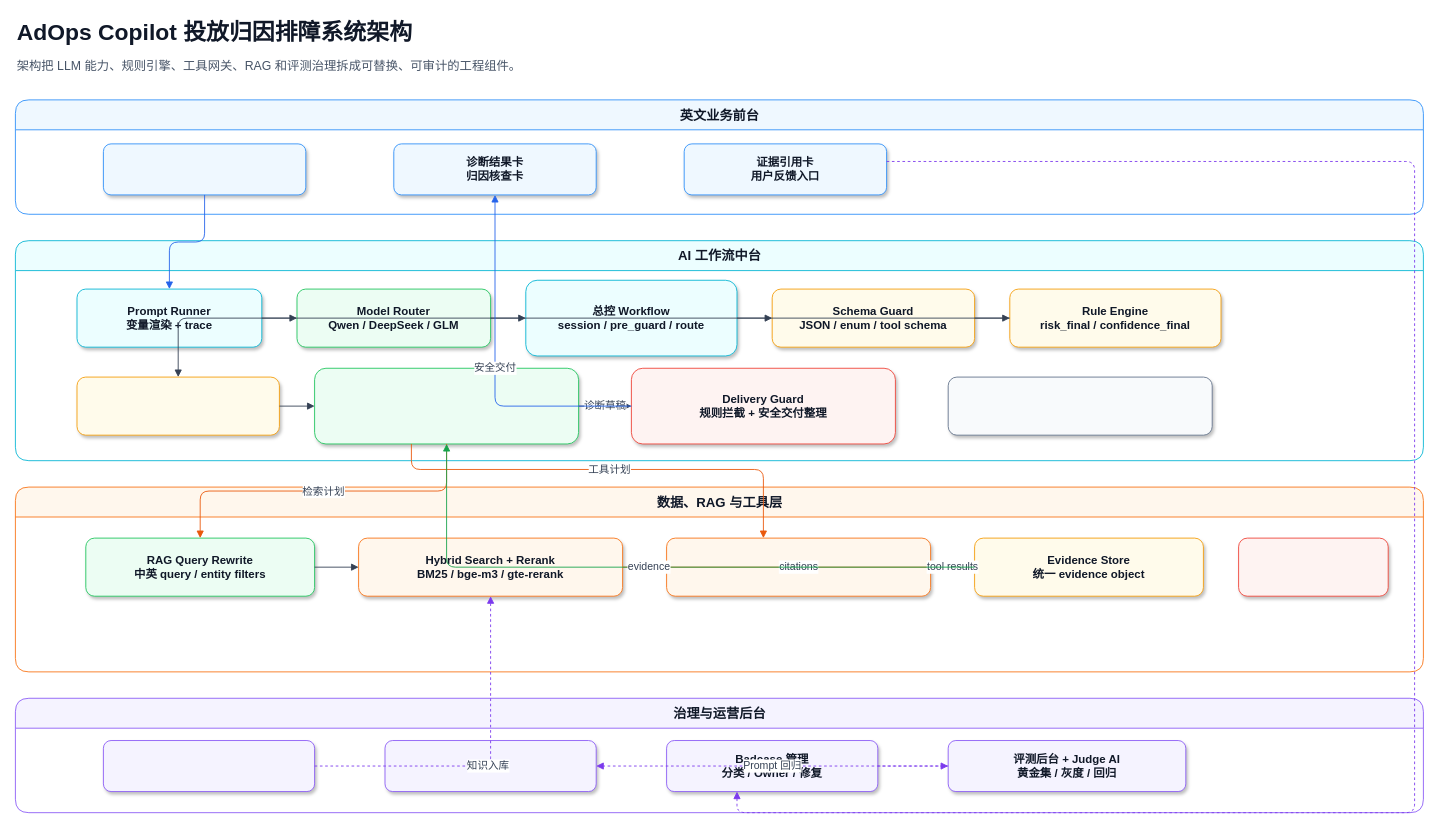
The diagram is 1439 pixels wide and 835 high, and some of its shapes have lost their labels. The shapes that lost their labels are listed below. From the top down, each one's centre as x and y in pixels, then its label:
At (x=205, y=170): "Copilot Chat Campaign 侧边栏".
At (x=179, y=407): "Workflow Dispatcher 固定场景流转".
At (x=447, y=407): "场景智能体 投放诊断 / 归因核对 / 知识回答".
At (x=1080, y=407): "Trace / Cost / Audit 模型、Prompt、工具版本".
At (x=799, y=568): "Tool Gateway 报表 / MMP / Postback 只读工具".
At (x=1313, y=568): "权限与数据边界 RBAC / ABAC / 字段脱敏".
At (x=209, y=767): "知识库管理 SOP / 口径 / Chunk".
At (x=491, y=767): "Prompt 管理 变量 / Schema / 版本".
